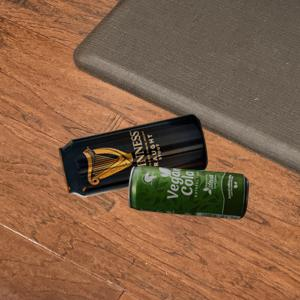can: (127, 165, 250, 220)
